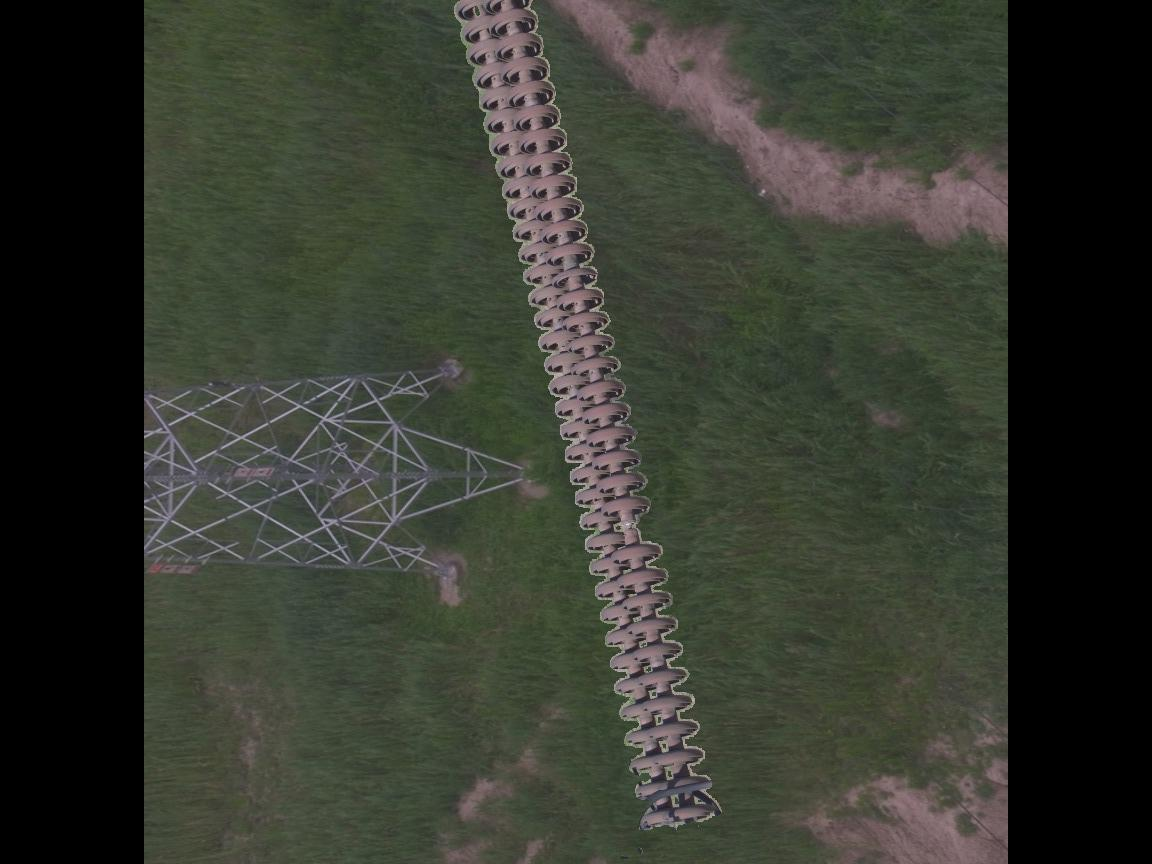insulator: (450, 1, 722, 836)
insulator_stringdrop: (596, 492, 666, 567)
